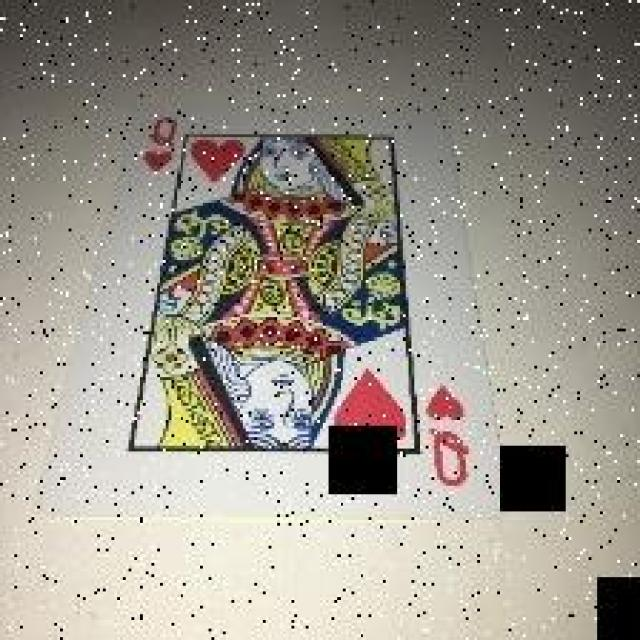Queen of hearts: (24, 111, 510, 524)
